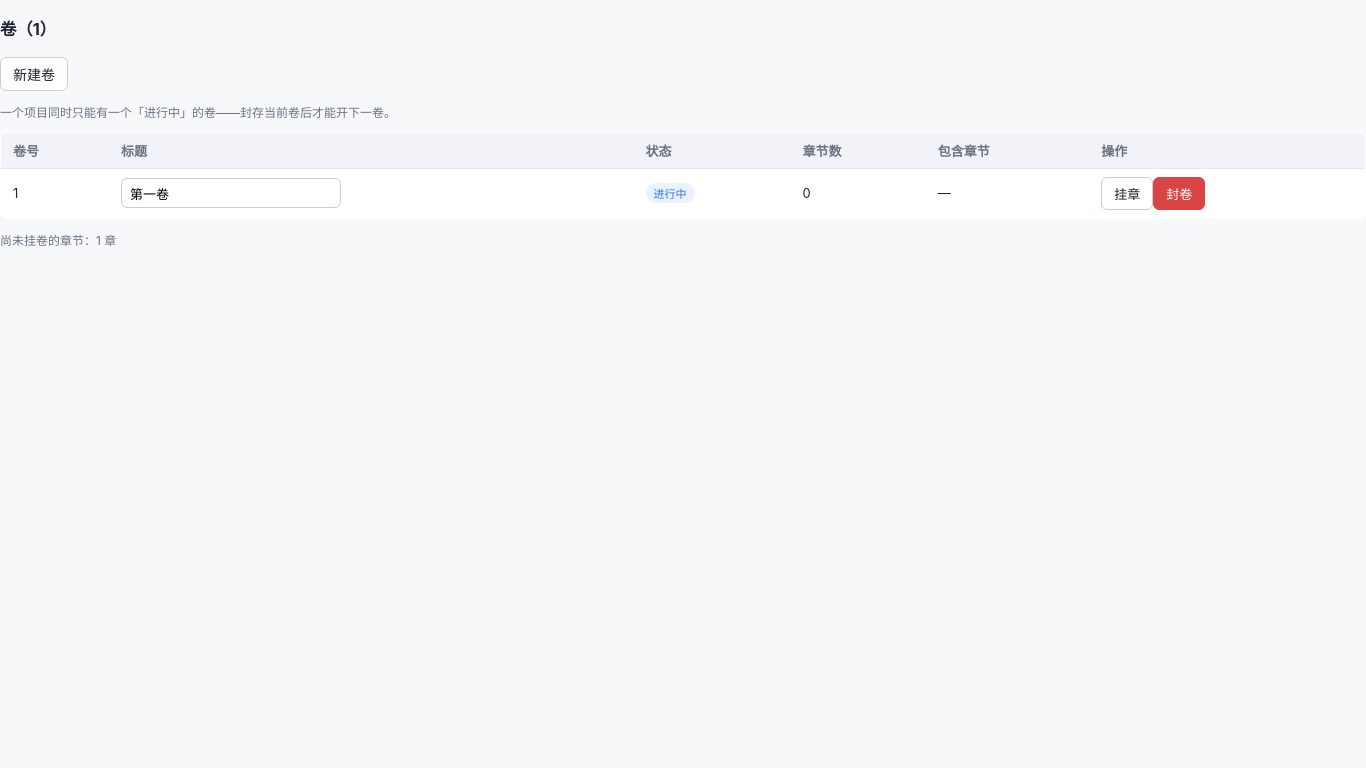
Scenario: VolumesTab › 未选章 ⇒ 提交按钮禁用（不发空 chapter_id 的请求）
Click the button with test id "volume-assign-vol_1": (1127, 193) [1101,177,1153,210]
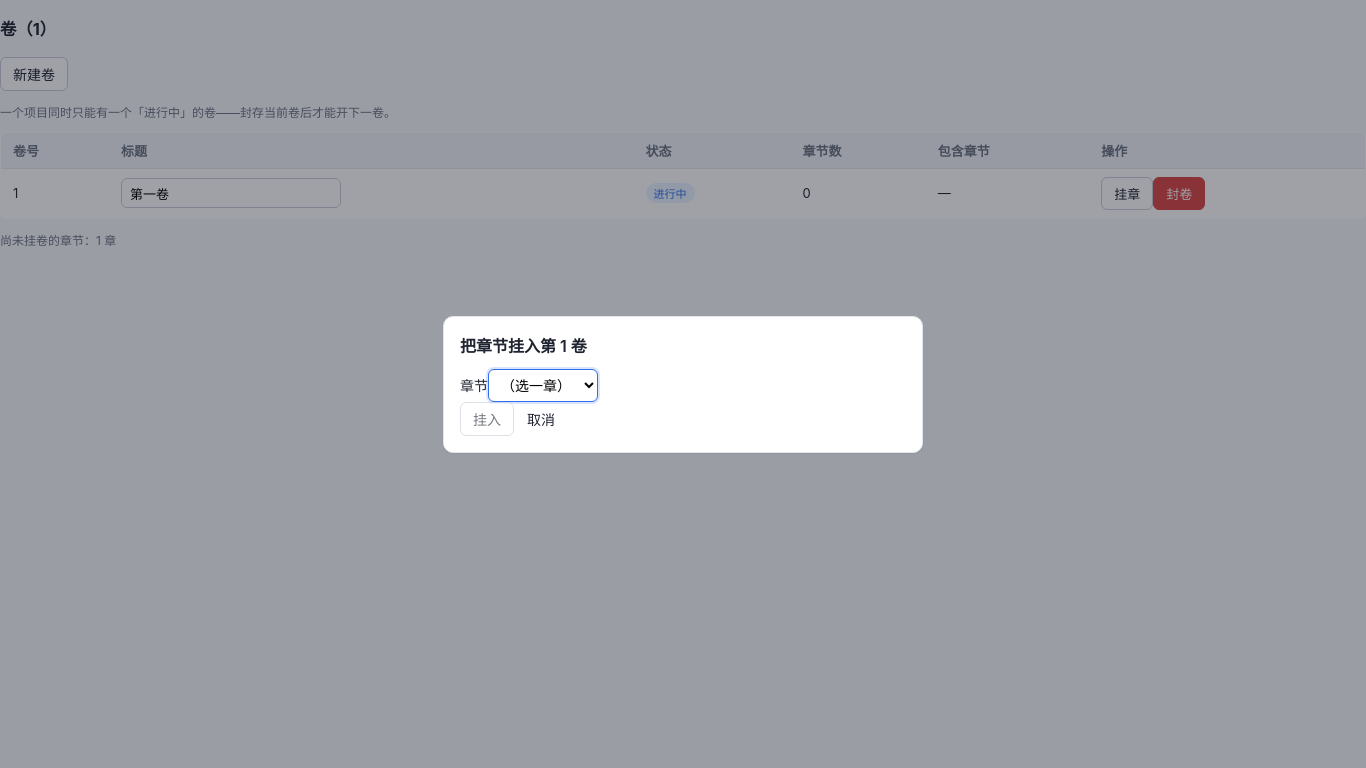
Expected: the button with test id "volume-assign-submit" is disabled, [460,402,514,436]
